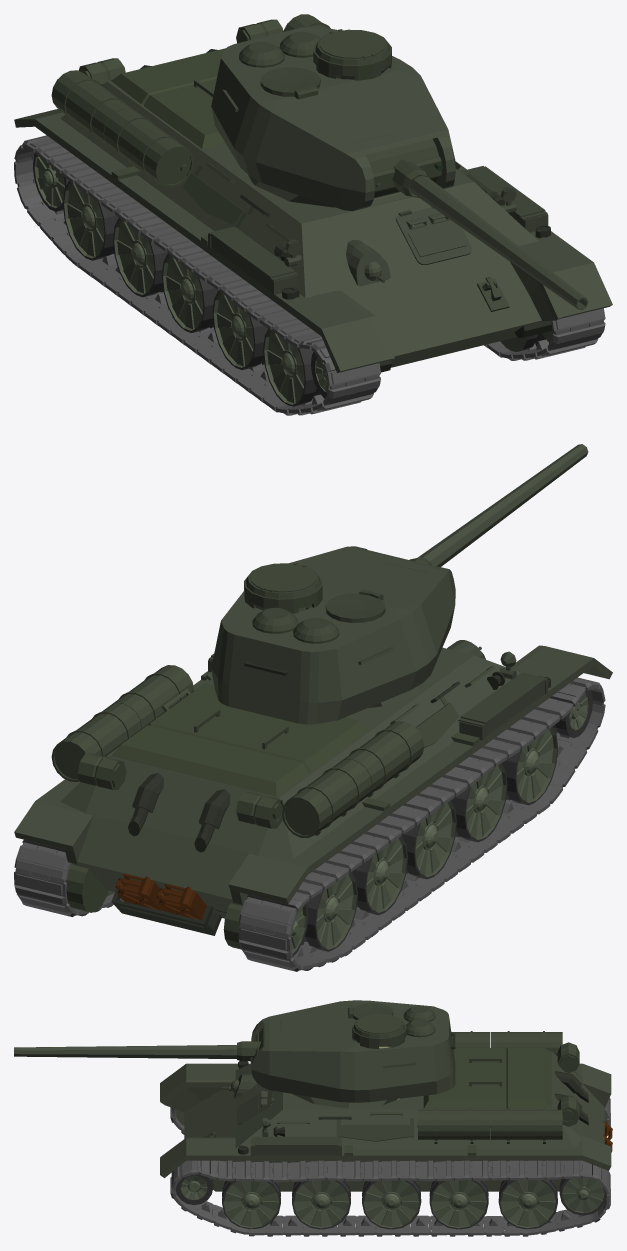
The model's file is Tank.fbx.
3 views of the same model, one above another, from view 1: azimuth 30°, elevation 25°; view 2: azimuth 150°, elevation 25°; view 3: azimuth 270°, elevation 25° (orthographic). The views are drawn at different scales.
Parts seen in each view (by area): view 1: Tank, TurretShell2, TurretBarrel, FrontHatch, BarrelRotator, TopHatch; view 2: Tank, TurretShell2, TurretBarrel, TopHatch; view 3: Tank, TurretShell2, TurretBarrel, FrontHatch, BarrelRotator, TopHatch.
Part boxes in pixels (left/top/right/bottom): Tank: left=14, top=14, right=612, bottom=415; TurretShell2: left=211, top=26, right=455, bottom=225; TurretBarrel: left=409, top=176, right=588, bottom=309; FrontHatch: left=396, top=206, right=471, bottom=264; BarrelRotator: left=365, top=138, right=441, bottom=198; TopHatch: left=260, top=67, right=320, bottom=99; Tank: left=14, top=640, right=612, bottom=971; TurretShell2: left=211, top=546, right=455, bottom=724; TurretBarrel: left=417, top=444, right=588, bottom=566; TopHatch: left=325, top=589, right=385, bottom=622; Tank: left=160, top=1031, right=612, bottom=1236; TurretShell2: left=251, top=1000, right=455, bottom=1108; TurretBarrel: left=14, top=1045, right=236, bottom=1058; FrontHatch: left=237, top=1089, right=273, bottom=1124; BarrelRotator: left=237, top=1027, right=264, bottom=1061; TopHatch: left=348, top=1003, right=393, bottom=1020.
Bounding box in the file's own units: 0.0381 × 0.0343 × 0.1036.
